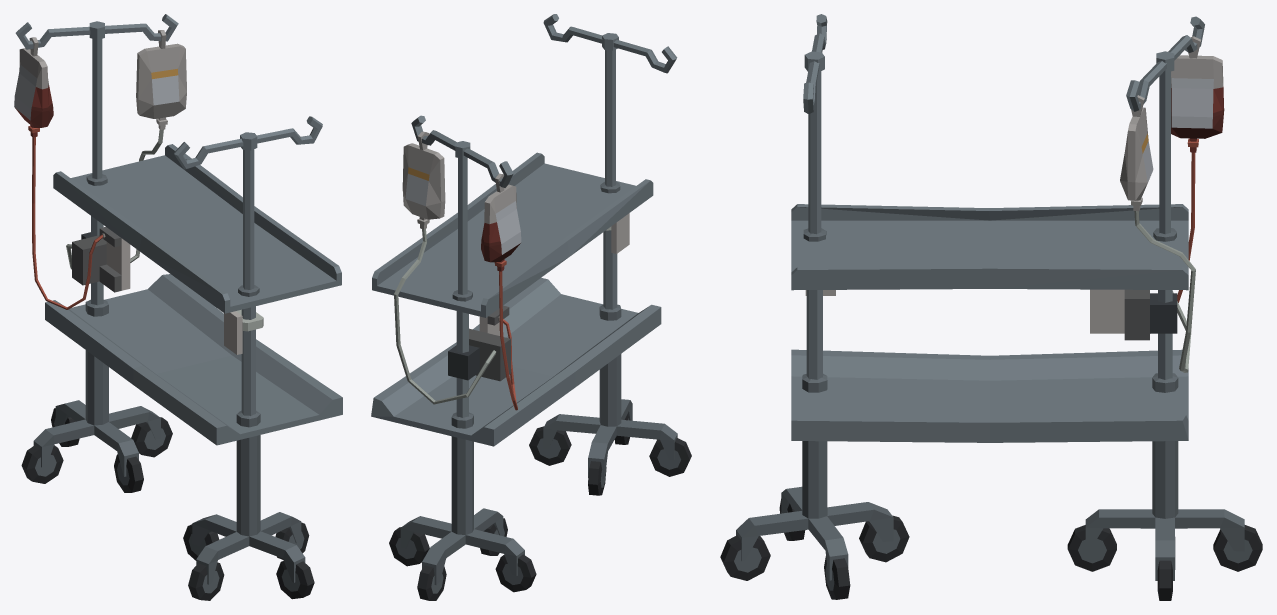
Rendered from SM_Prop_Medic_IV_01.fbx.
The picture shows the model from 3 angles, left to right: view 1: azimuth 30°, elevation 25°; view 2: azimuth 150°, elevation 25°; view 3: azimuth 270°, elevation 25°; orthographic projection. The views are drawn at different scales.
Parts seen in each view (by area): view 1: SM_Prop_Medic_IV_01; view 2: SM_Prop_Medic_IV_01; view 3: SM_Prop_Medic_IV_01.
Boxes of the visible parts, bbox=[...] form: SM_Prop_Medic_IV_01: bbox=[14, 14, 342, 600]; SM_Prop_Medic_IV_01: bbox=[371, 14, 691, 600]; SM_Prop_Medic_IV_01: bbox=[720, 14, 1262, 600].
Bounding box in the file's own units: 59.89 × 164 × 155.
